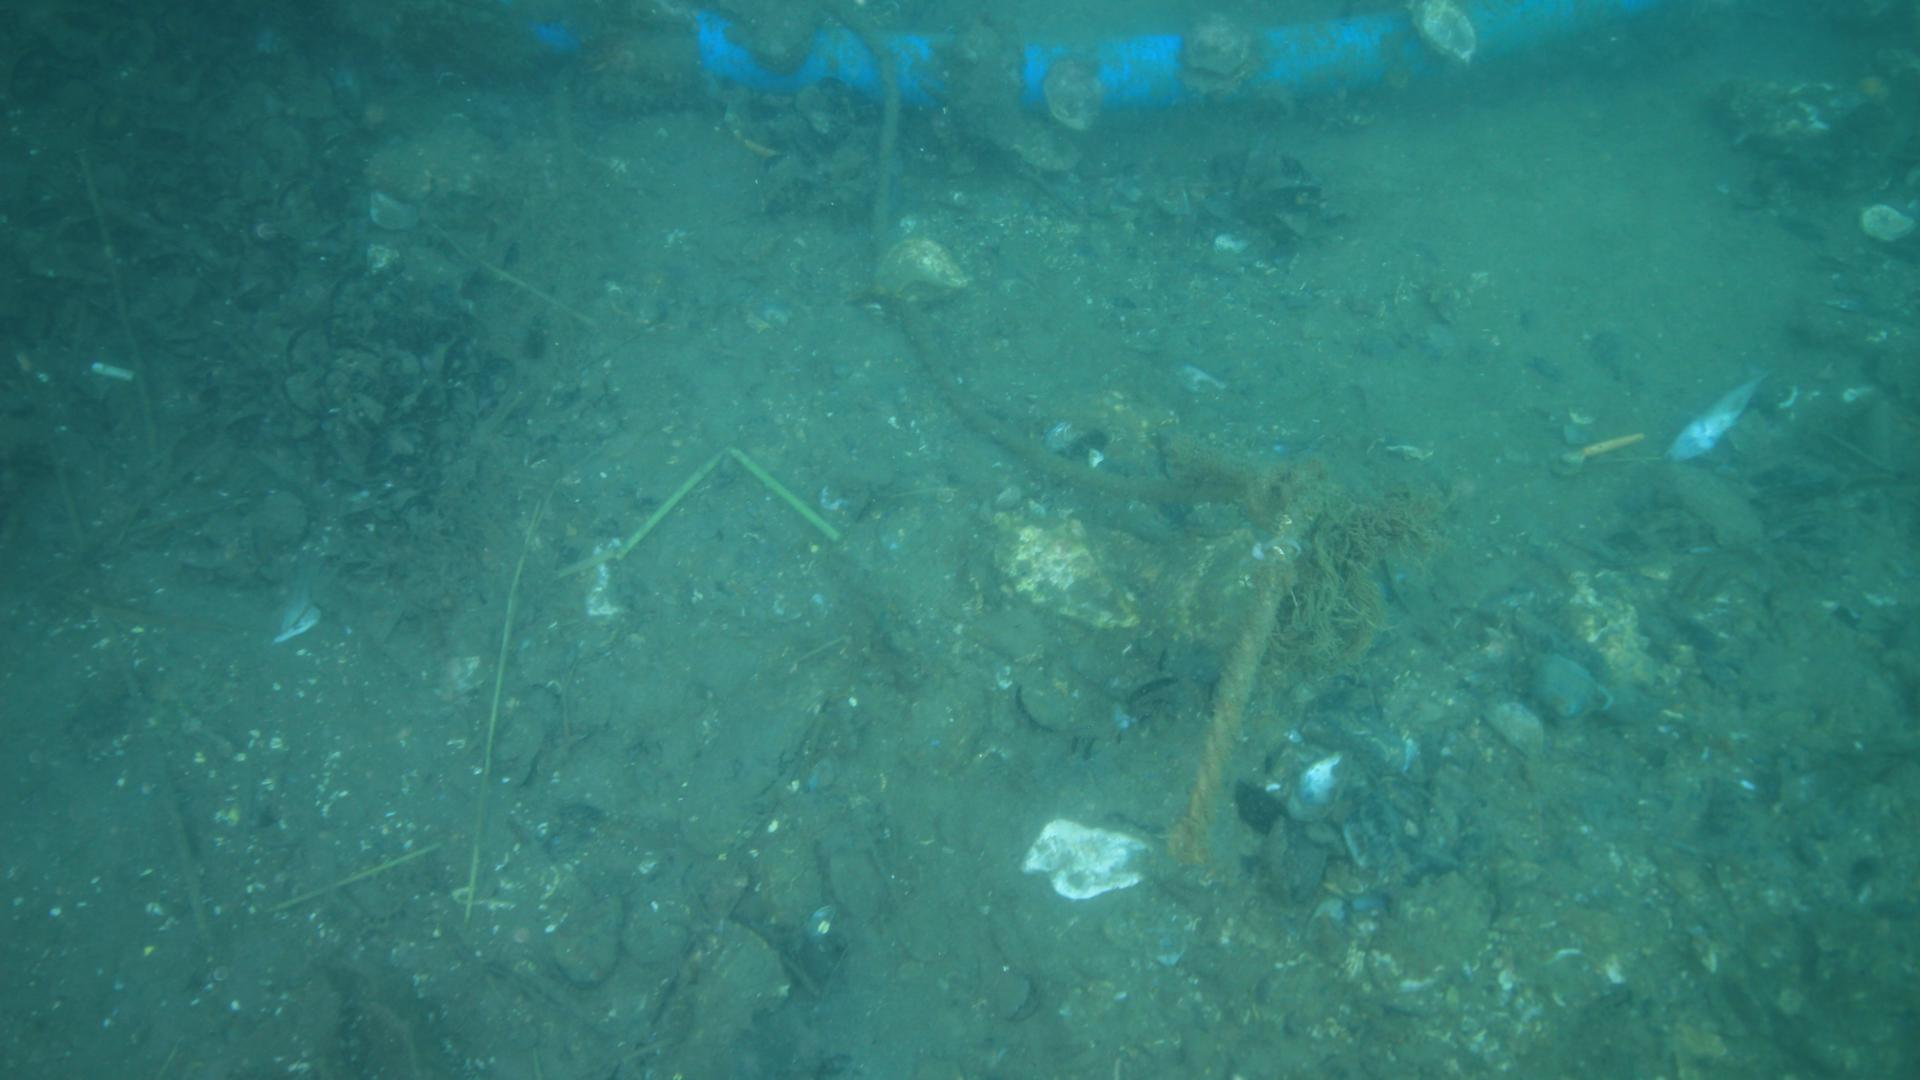rope: (1183, 516, 1303, 822)
